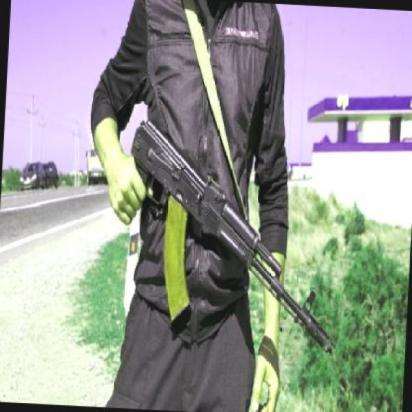Gun: (105, 116, 344, 356)
